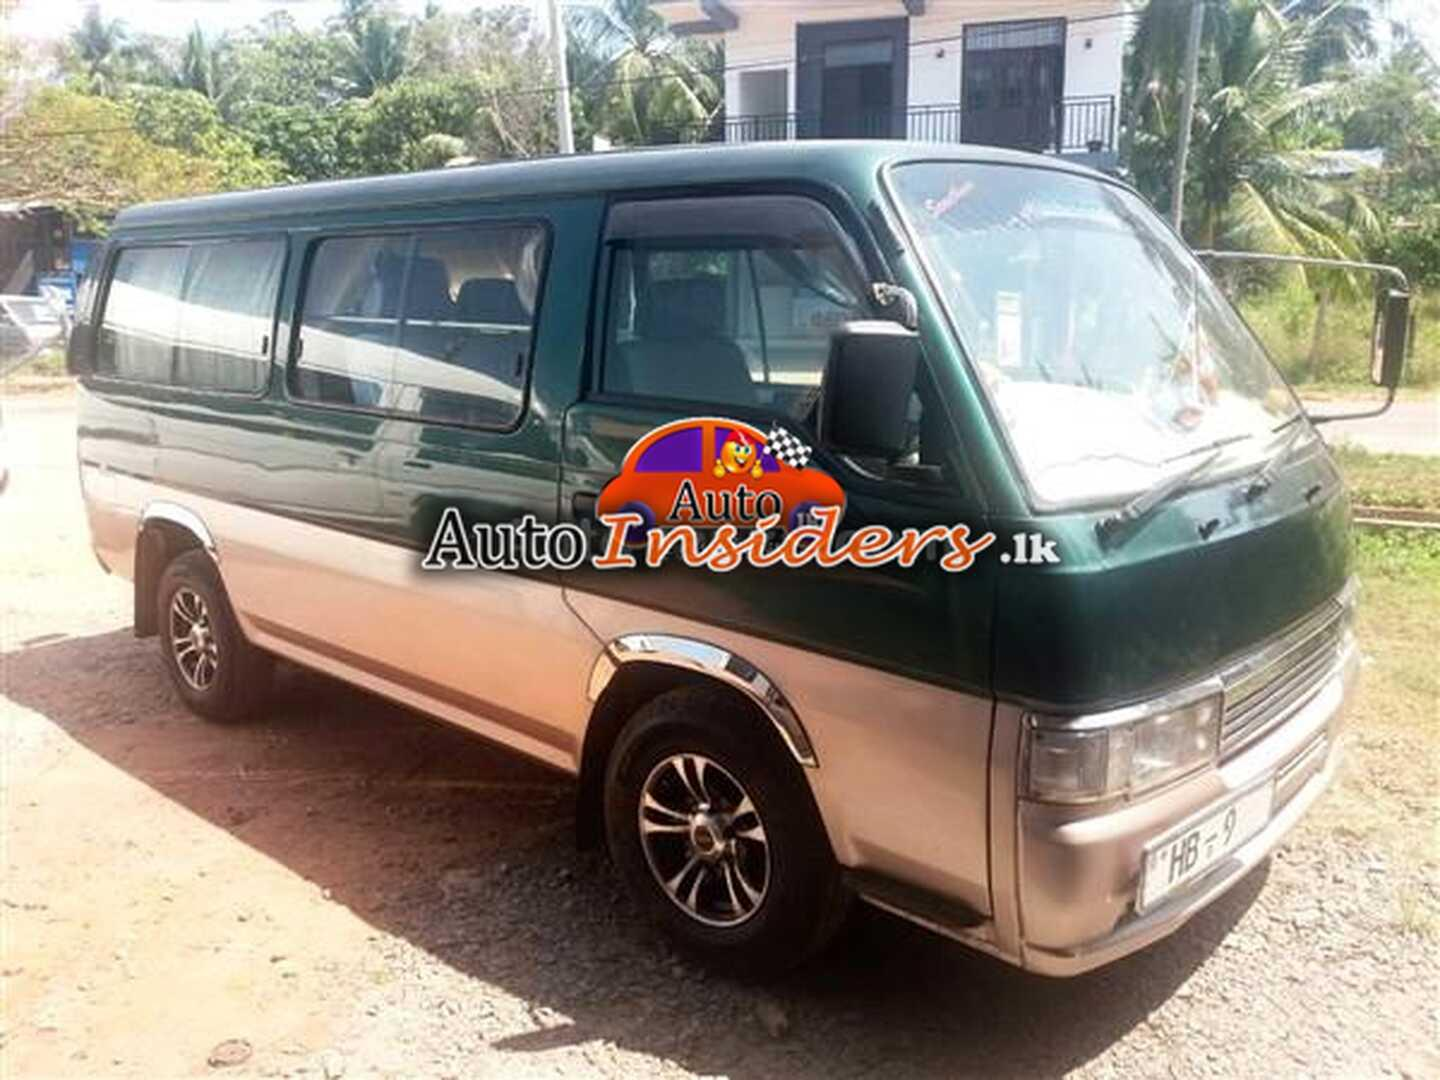Van: (78, 153, 1380, 969)
